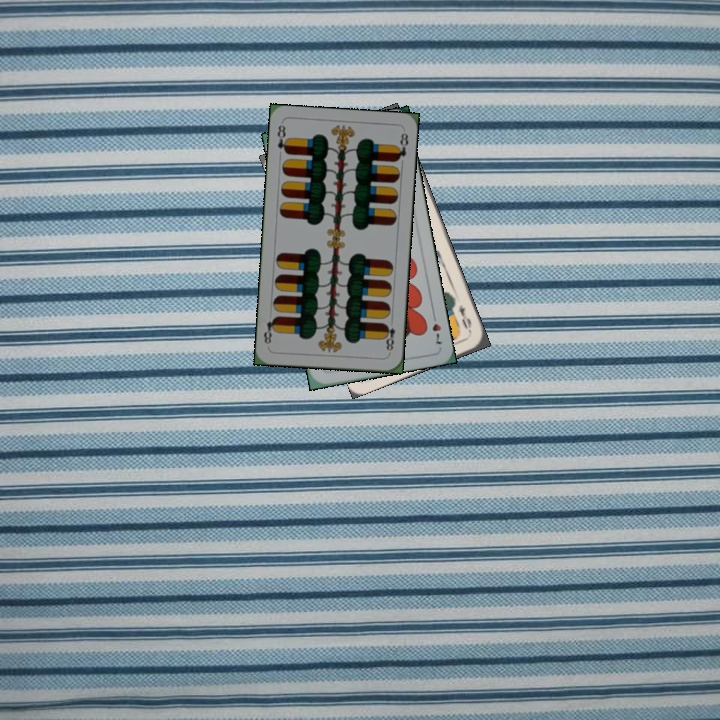E8: (380, 320, 398, 356), (273, 121, 291, 156)
EO: (455, 301, 474, 336)
H7: (428, 308, 444, 348)
